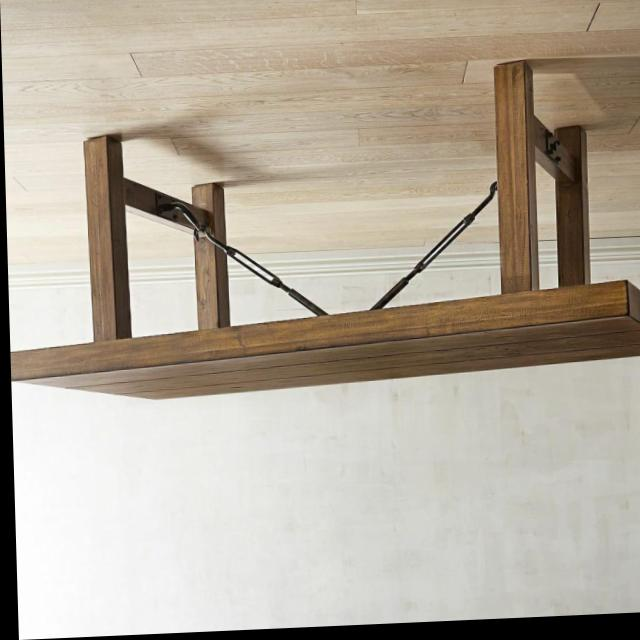Table: (1, 39, 640, 426)
